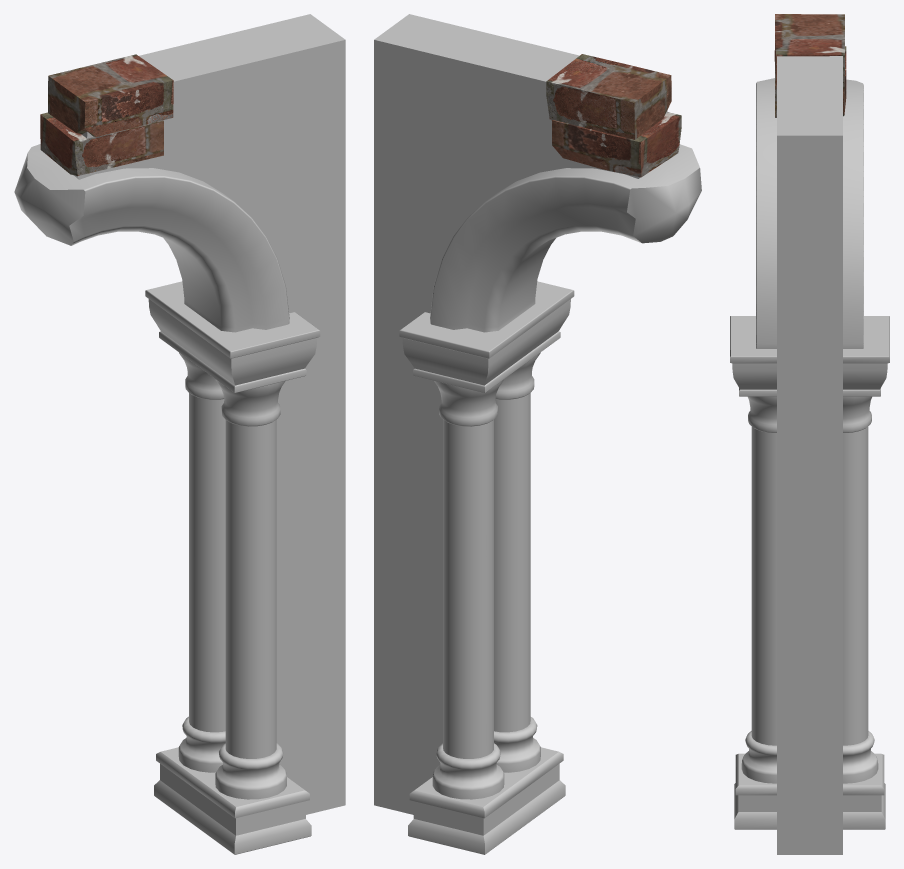
The model's file is SM_Archway_Tall_04_Ruined_01.fbx.
3 renders of one model, left to right at view 1: azimuth 30°, elevation 25°; view 2: azimuth 150°, elevation 25°; view 3: azimuth 270°, elevation 25°, orthographic. The views are drawn at different scales.
Visible parts, largest first — view 1: SM_Archway_Tall_04_Ruined_01_LOD0; view 2: SM_Archway_Tall_04_Ruined_01_LOD0; view 3: SM_Archway_Tall_04_Ruined_01_LOD0.
Part boxes in pixels (<box>): SM_Archway_Tall_04_Ruined_01_LOD0: <box>14,14,345,854</box>; SM_Archway_Tall_04_Ruined_01_LOD0: <box>374,14,701,854</box>; SM_Archway_Tall_04_Ruined_01_LOD0: <box>730,14,889,854</box>.
Size of what is drawn, in the model's own units: 248 by 602 by 121.
